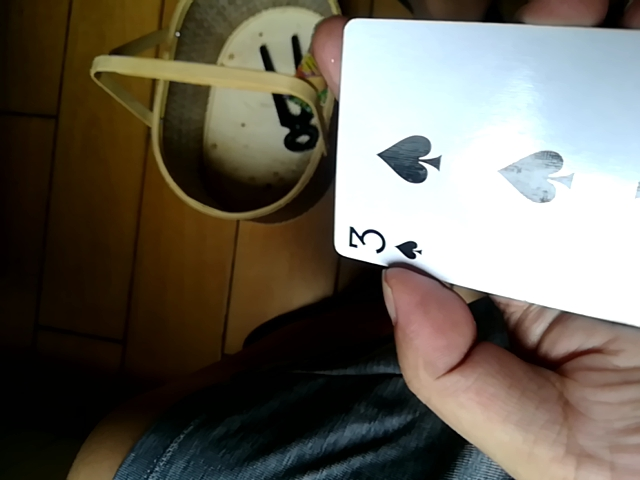ht 3: (326, 21, 640, 341)
